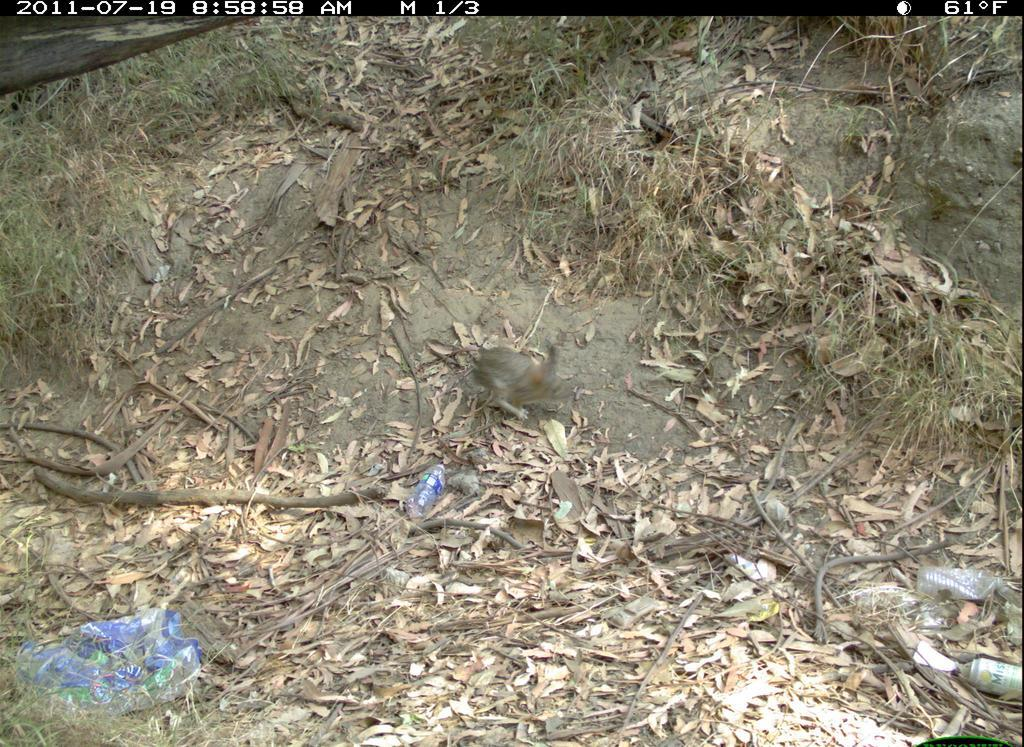rabbit: (465, 333, 583, 425)
